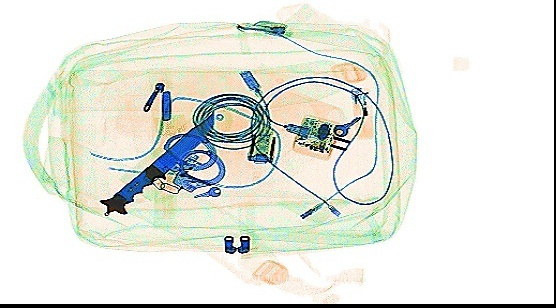handcuffs: (162, 130, 227, 194)
knife: (96, 109, 215, 217)
lighter: (348, 83, 375, 137)
